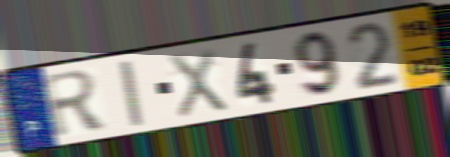2: (345, 20, 401, 93)
4: (235, 39, 278, 107)
9: (289, 28, 344, 99)
I: (115, 58, 147, 130)
R: (40, 67, 111, 141)
X: (165, 47, 231, 121)
